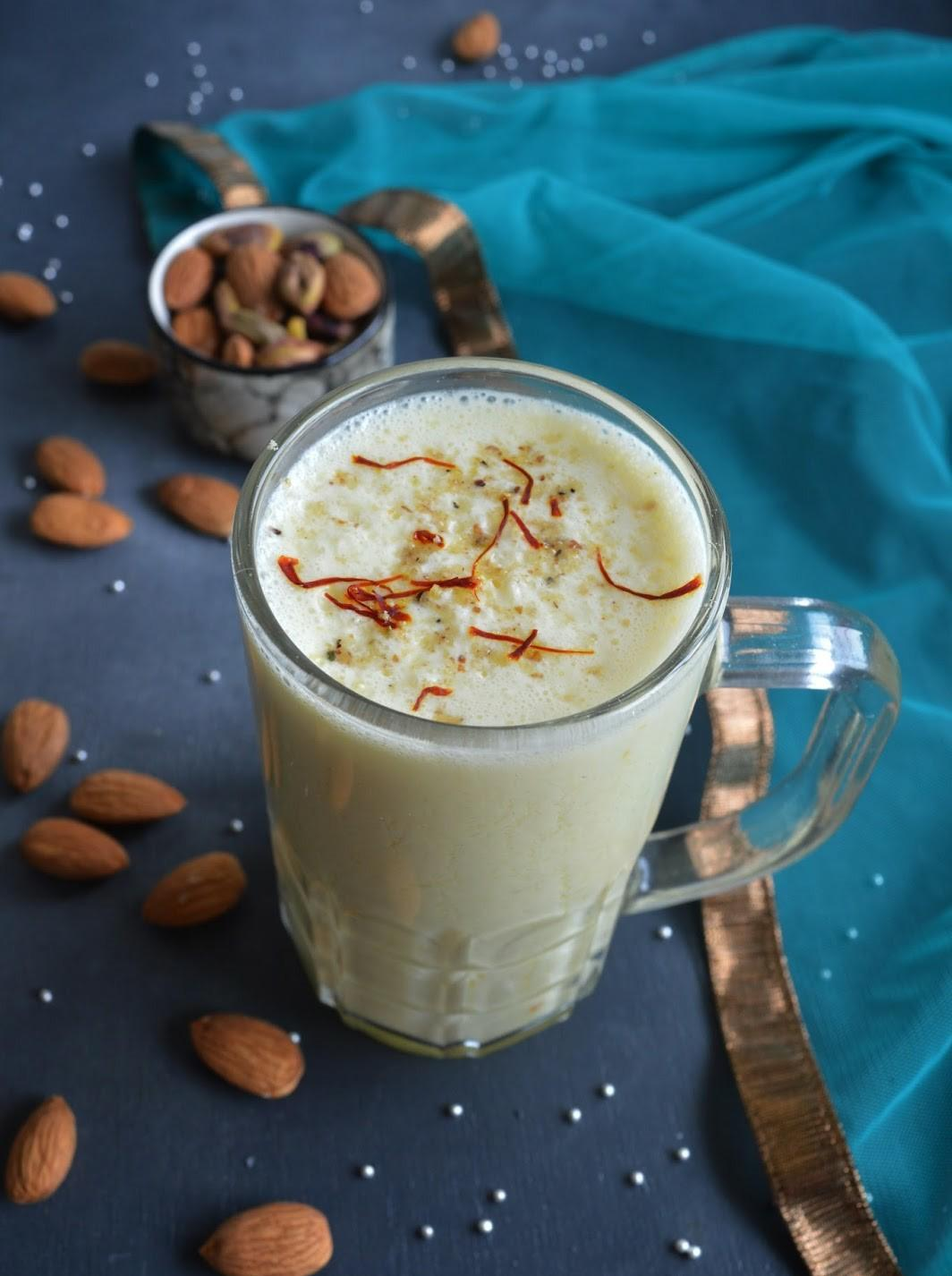Lassi: (242, 389, 709, 1044)
